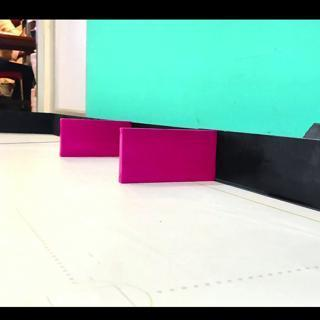xparking: (122, 128, 212, 182), (59, 120, 118, 158)
